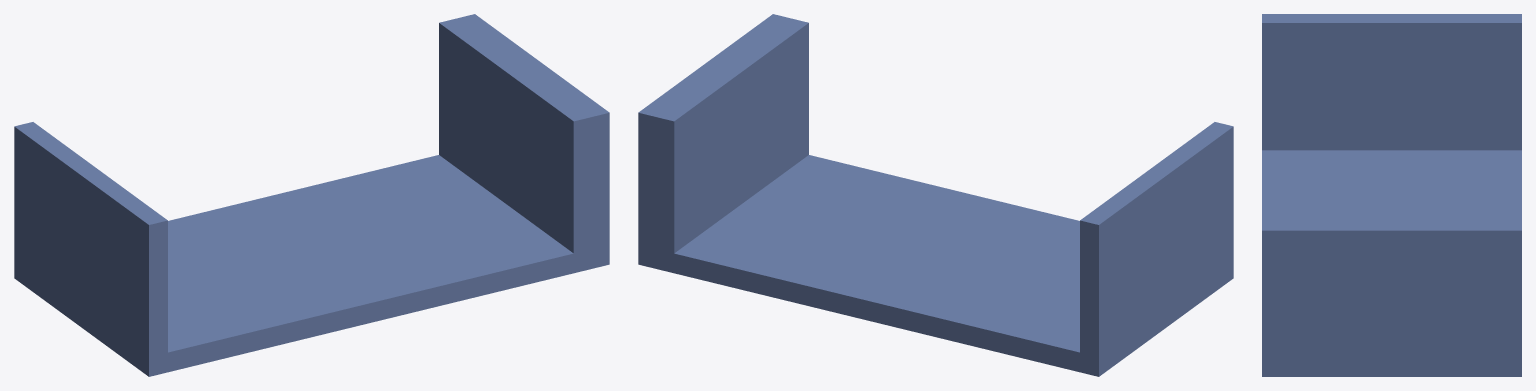
Rendered from RadiOpi Abdeckung Make.glb.
The picture shows the model from 3 angles, left to right: view 1: azimuth 30°, elevation 25°; view 2: azimuth 150°, elevation 25°; view 3: azimuth 270°, elevation 25°; orthographic projection. The views are drawn at different scales.
Parts seen in each view (by area): view 1: Mesh_Mesh_head_geo.001_lambert2SG.001; view 2: Mesh_Mesh_head_geo.001_lambert2SG.001; view 3: Mesh_Mesh_head_geo.001_lambert2SG.001.
Part boxes in pixels (left/top/right/bottom): Mesh_Mesh_head_geo.001_lambert2SG.001: left=14, top=14, right=609, bottom=376; Mesh_Mesh_head_geo.001_lambert2SG.001: left=638, top=14, right=1233, bottom=376; Mesh_Mesh_head_geo.001_lambert2SG.001: left=1262, top=14, right=1521, bottom=376.
Bounding box in the file's own units: 73 × 23 × 37.
